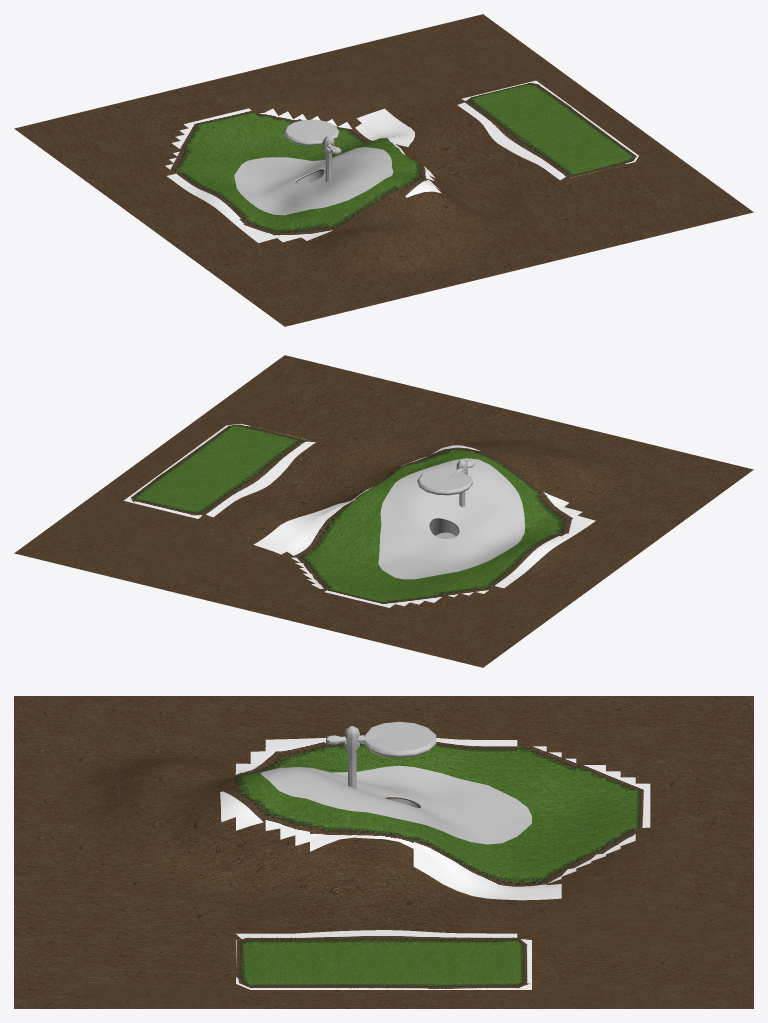
File: Hole019Set.fbx
The picture shows the model from 3 angles, top to bottom: view 1: azimuth 30°, elevation 25°; view 2: azimuth 150°, elevation 25°; view 3: azimuth 270°, elevation 25°; orthographic projection. The views are drawn at different scales.
Parts seen in each view (by area): view 1: Hole019MeshTerrain, paddleBlocker; view 2: Hole019MeshTerrain, paddleBlocker; view 3: Hole019MeshTerrain, paddleBlocker, paddleBlockerHolder.
Part boxes in pixels (x1,y1,x2,y2): Hole019MeshTerrain: (14, 14, 753, 326); paddleBlocker: (284, 119, 341, 154); Hole019MeshTerrain: (14, 355, 753, 667); paddleBlocker: (417, 460, 474, 495); Hole019MeshTerrain: (14, 696, 753, 1008); paddleBlocker: (326, 721, 436, 758); paddleBlockerHolder: (344, 726, 359, 788).
Size of the model in its own units: 204 by 33.65 by 204.
